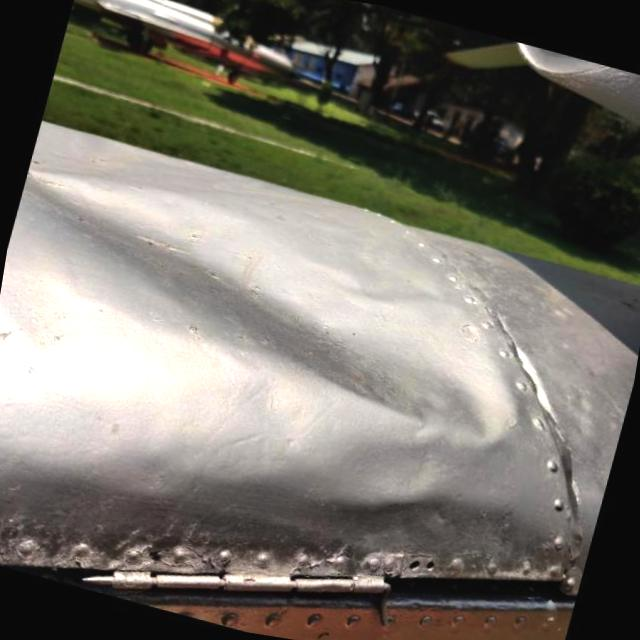dent: (0, 122, 599, 640)
